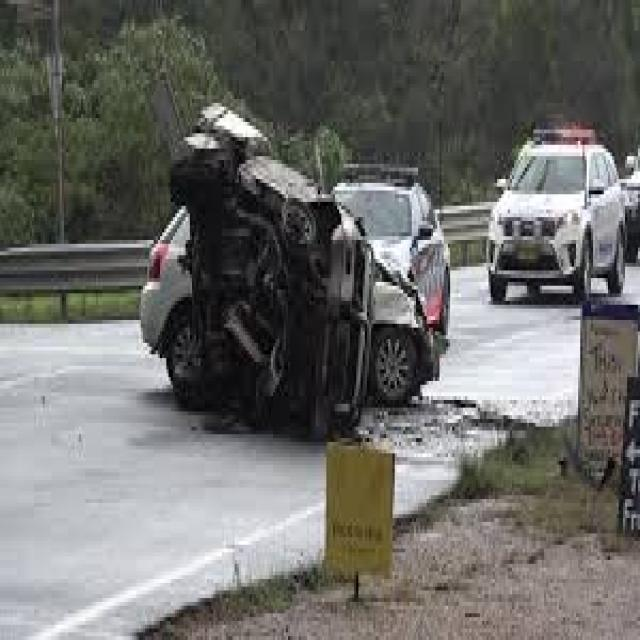accident: (161, 90, 394, 448)
